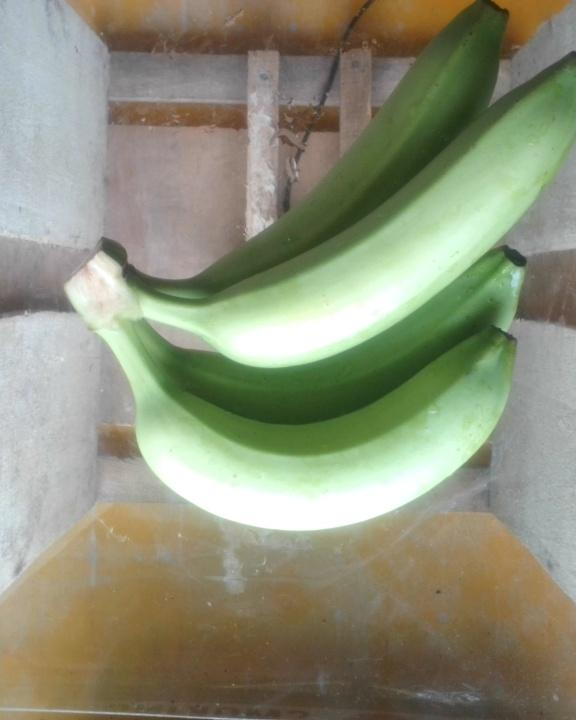SPOT: (60, 3, 569, 546)
